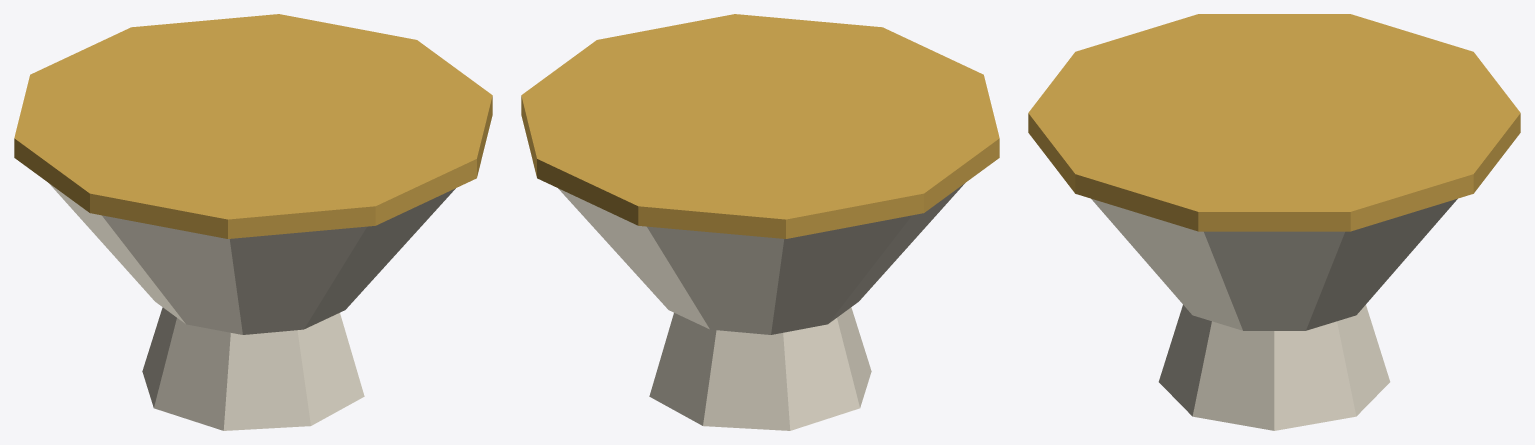
File: prop_gut_cup.glb
The picture shows the model from 3 angles, left to right: view 1: azimuth 30°, elevation 25°; view 2: azimuth 150°, elevation 25°; view 3: azimuth 270°, elevation 25°; orthographic projection.
Parts seen in each view (by area): view 1: prop_gut_cup; view 2: prop_gut_cup; view 3: prop_gut_cup.
Boxes of the visible parts, left/top/right/bottom form: prop_gut_cup: left=14, top=14, right=492, bottom=430; prop_gut_cup: left=521, top=14, right=999, bottom=430; prop_gut_cup: left=1028, top=14, right=1520, bottom=430.
Bounding box in the file's own units: 0.3234 × 0.205 × 0.34.
